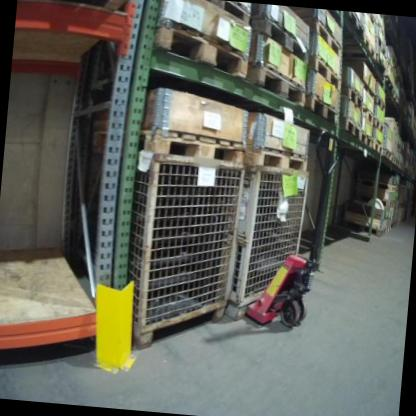pallet: (247, 14, 395, 93), (152, 15, 255, 81), (136, 124, 245, 167), (245, 59, 310, 108), (241, 141, 309, 174), (299, 14, 346, 57), (305, 52, 344, 93), (304, 91, 342, 127), (343, 219, 387, 240), (337, 115, 364, 142), (340, 84, 366, 111), (355, 177, 397, 193), (359, 34, 379, 61), (359, 103, 374, 124), (359, 129, 374, 149), (373, 93, 387, 113), (372, 116, 386, 133), (372, 140, 384, 155), (383, 149, 393, 161), (386, 200, 395, 210), (386, 224, 391, 234)
pallet_truck: (241, 123, 346, 336)
stillage: (59, 135, 250, 366), (219, 155, 321, 335)
